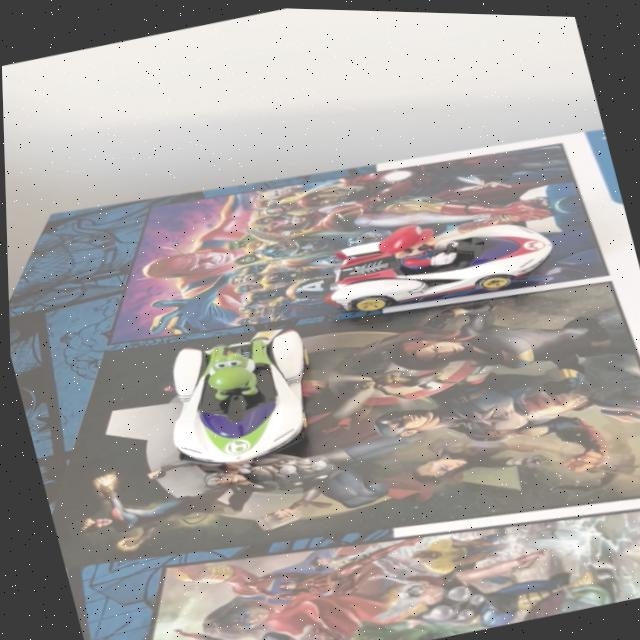mario: (303, 183, 573, 331)
yoshi: (133, 308, 339, 487)
